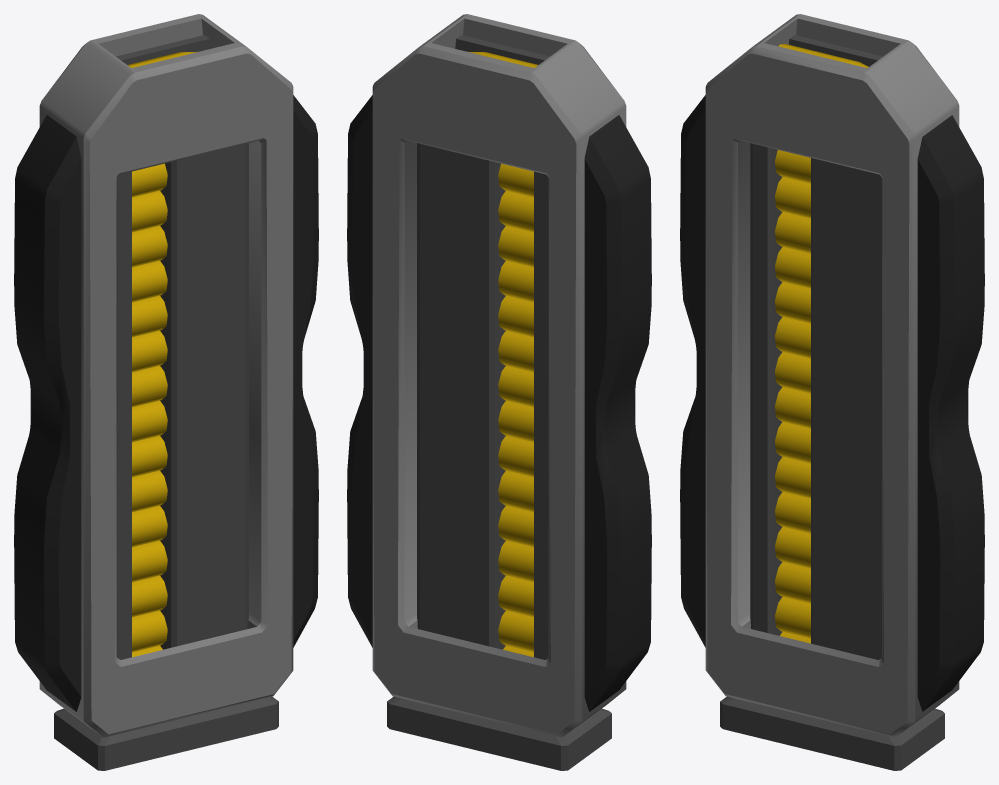
File: Magazine_Regular.fbx
The picture shows the model from 3 angles, left to right: view 1: azimuth 30°, elevation 25°; view 2: azimuth 150°, elevation 25°; view 3: azimuth 330°, elevation 25°; orthographic projection.
Visible parts, largest first — view 1: Box003.001, Cylinder017; view 2: Box003.001, Cylinder017; view 3: Box003.001, Cylinder017.
Part boxes in pixels (left/top/right/bottom): Box003.001: left=14, top=14, right=318, bottom=737; Cylinder017: left=54, top=35, right=278, bottom=770; Box003.001: left=347, top=14, right=651, bottom=737; Cylinder017: left=387, top=35, right=611, bottom=770; Box003.001: left=680, top=14, right=984, bottom=737; Cylinder017: left=720, top=35, right=944, bottom=770.
Size of the model in its own units: 11.22 by 26.87 by 3.54.
